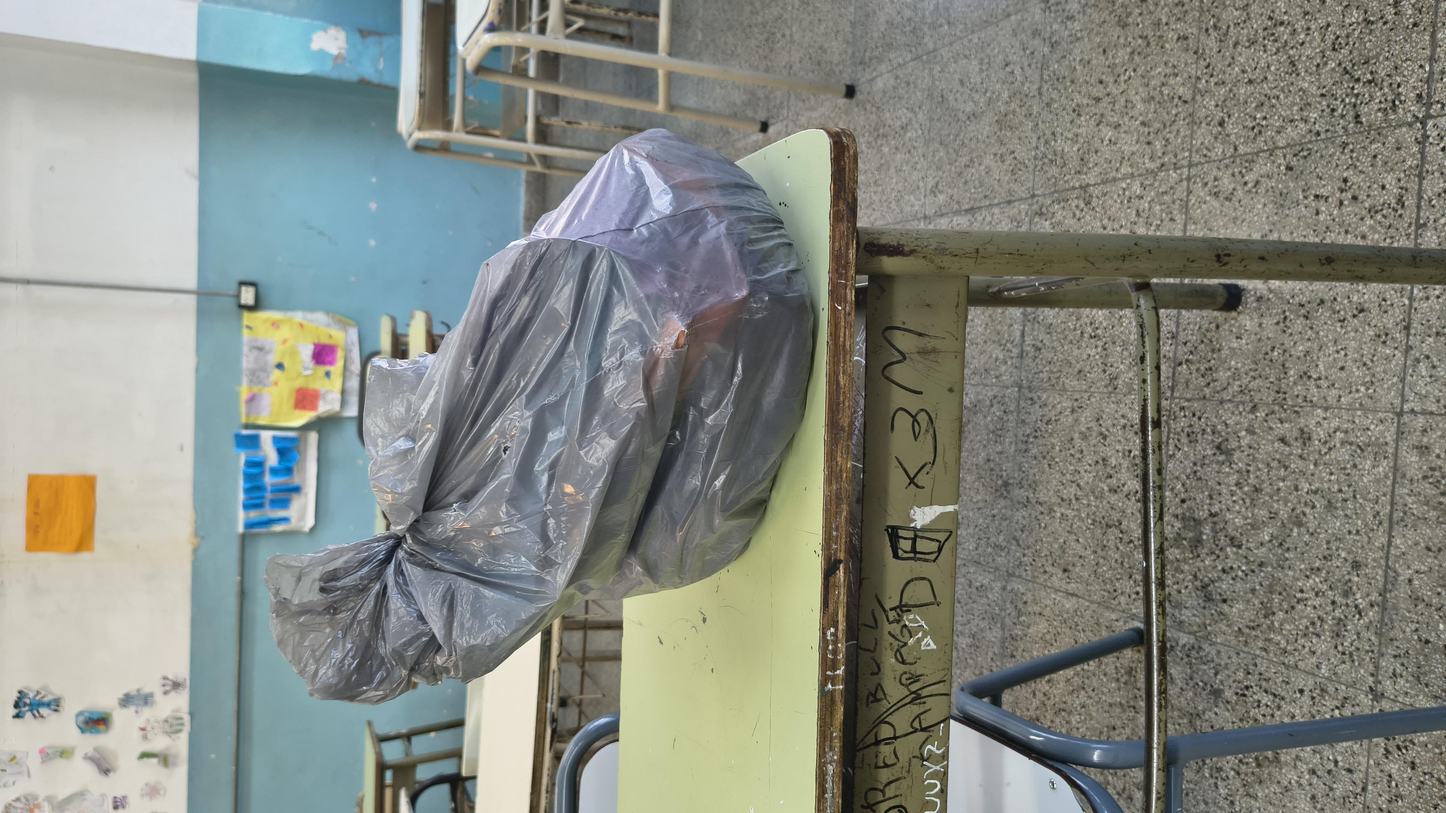Garbage: (144, 131, 1280, 480)
